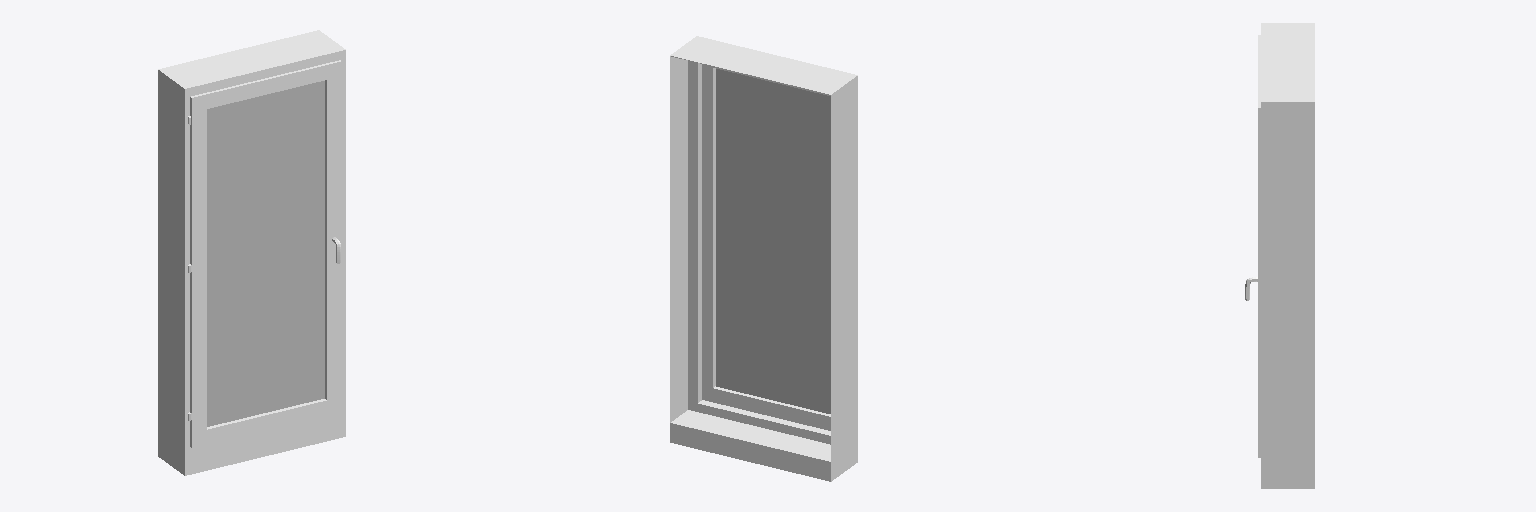
File: smallwindow.obj
3 renders of one model, left to right at view 1: azimuth 30°, elevation 25°; view 2: azimuth 150°, elevation 25°; view 3: azimuth 270°, elevation 25°, orthographic.
Parts seen in each view (by area): view 1: sweethome3d_window_pane_1, Tour_Fenetre_6, Fenetre_7; view 2: sweethome3d_window_pane_1, Tour_Fenetre_6, Fenetre_7; view 3: Tour_Fenetre_6, Fenetre_7.
Boxes of the visible parts, x1,y1,x2,y2 form: sweethome3d_window_pane_1: [207, 81, 324, 426]; Tour_Fenetre_6: [158, 30, 345, 475]; Fenetre_7: [190, 60, 341, 447]; sweethome3d_window_pane_1: [716, 69, 830, 413]; Tour_Fenetre_6: [670, 36, 857, 481]; Fenetre_7: [702, 64, 830, 430]; Tour_Fenetre_6: [1261, 23, 1314, 488]; Fenetre_7: [1258, 35, 1260, 457].
Bounding box in the file's own units: 91.44 × 210 × 34.29.